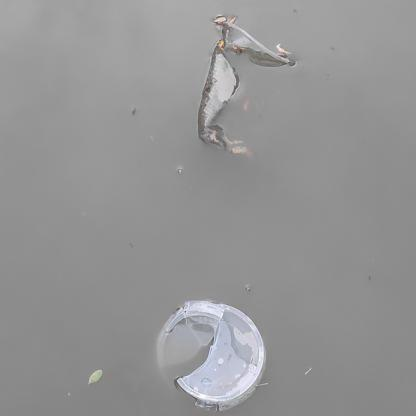Trash: (195, 16, 298, 159), (153, 298, 266, 414)
